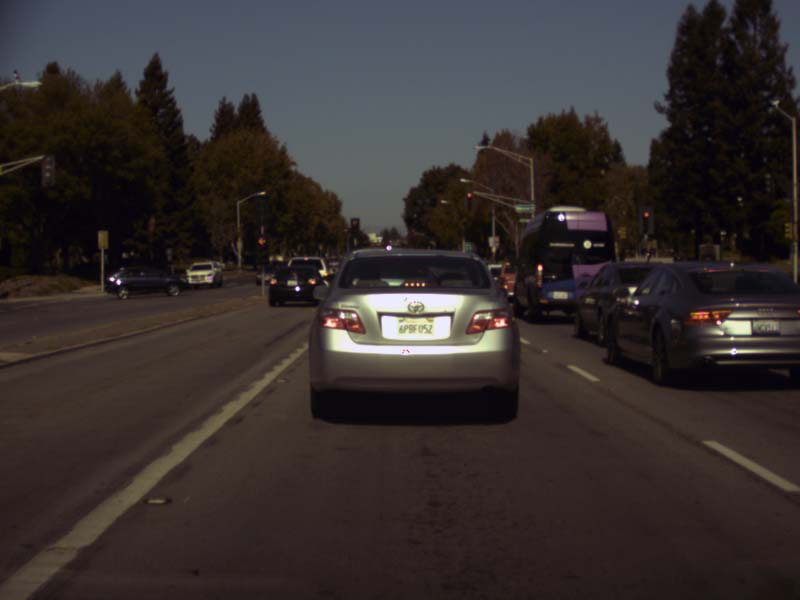Red: (257, 234, 268, 263), (641, 210, 649, 234), (351, 217, 358, 235), (466, 191, 472, 208)
